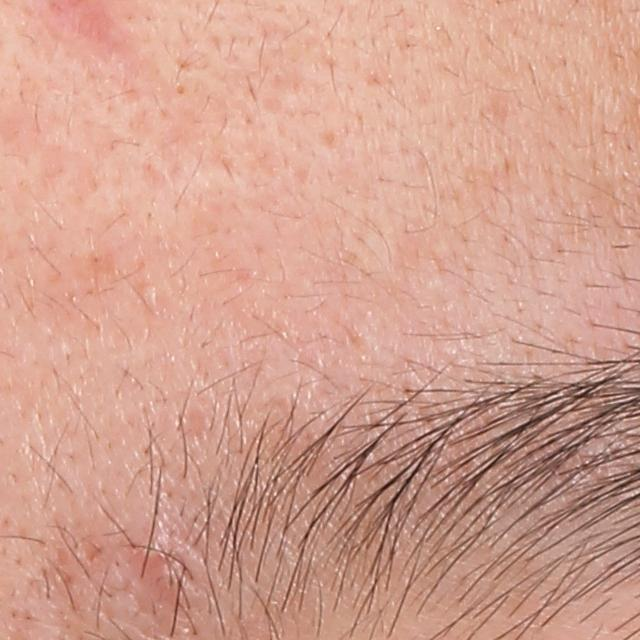comedo: (172, 80, 189, 99)
